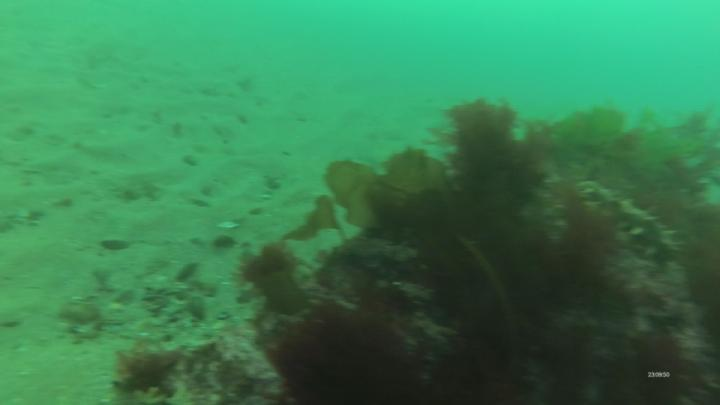holothurian: (577, 175, 688, 267)
waterweeds: (243, 97, 720, 405)
